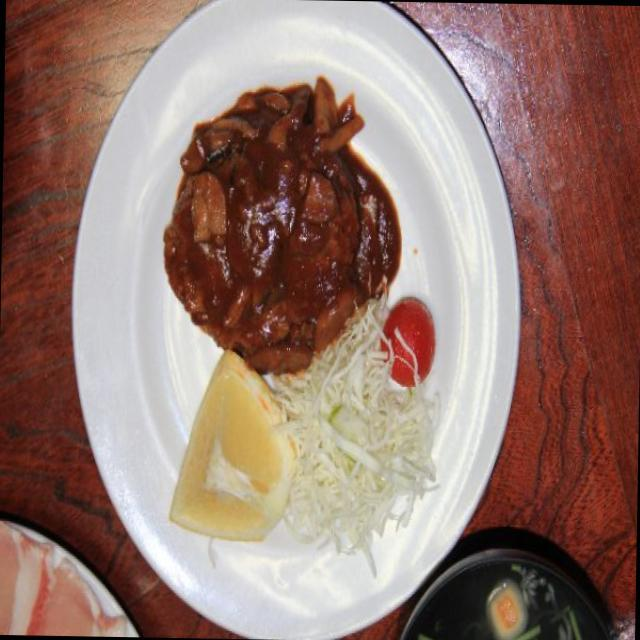Green Salad: (282, 379, 448, 565)
